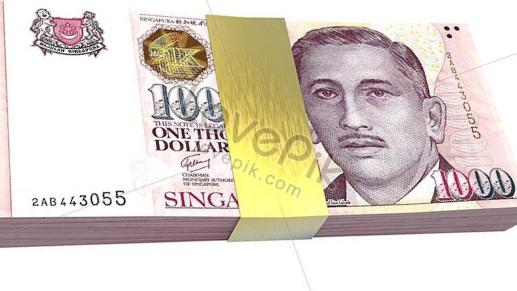1000SingaporeDollar: (0, 1, 517, 209)
